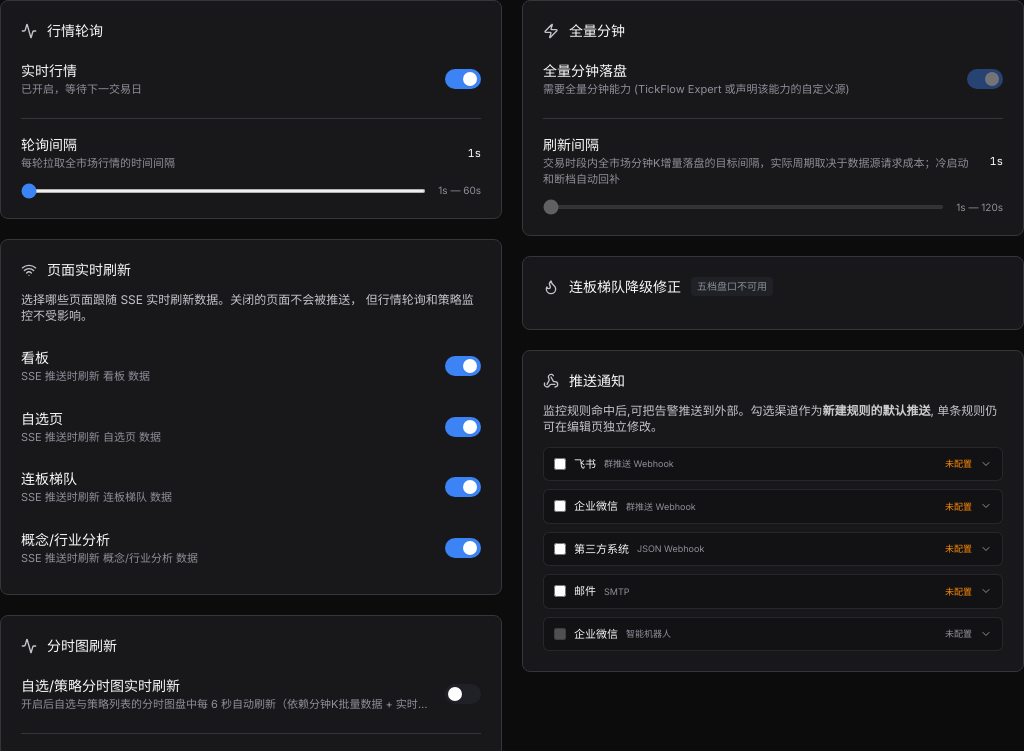
Test: keeps saved channel opt-out and disables testing for an unconfigured transport
Expected: the checkbox named "作为新建规则的默认推送渠道" next to "邮件" is not checked, [554,585,566,597]
Click the element showing "邮件 SMTP 未配置".
click(585, 591)  # box [554,584,992,598]
(page scrolled)
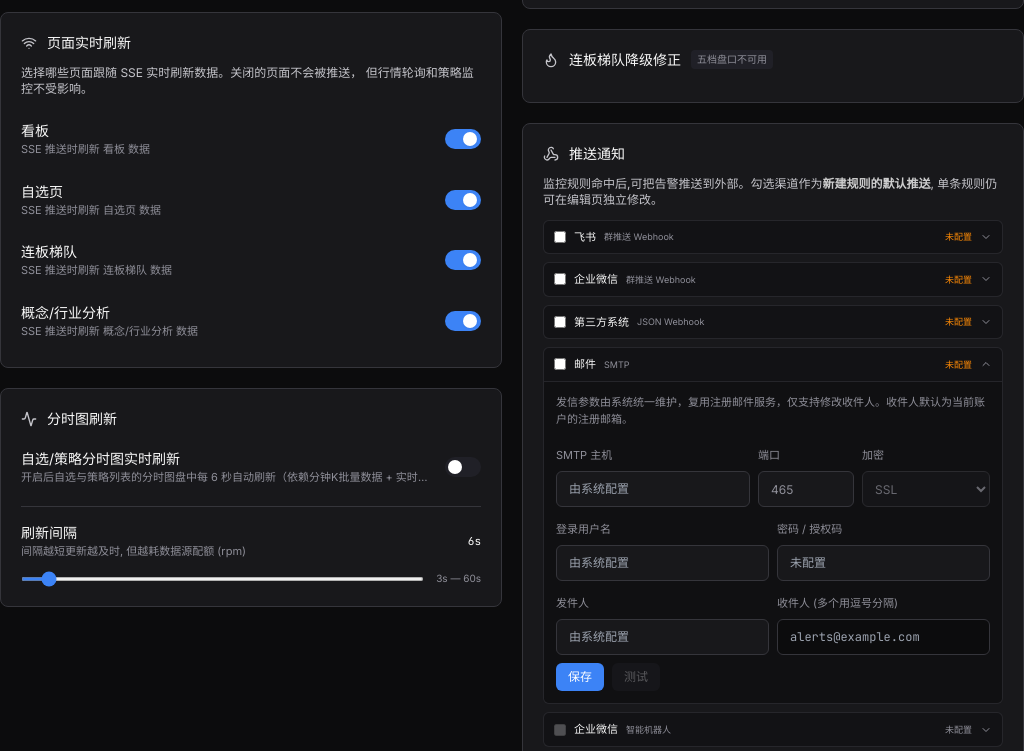
Expected: the button "测试" is disabled, [612,663,660,691]
